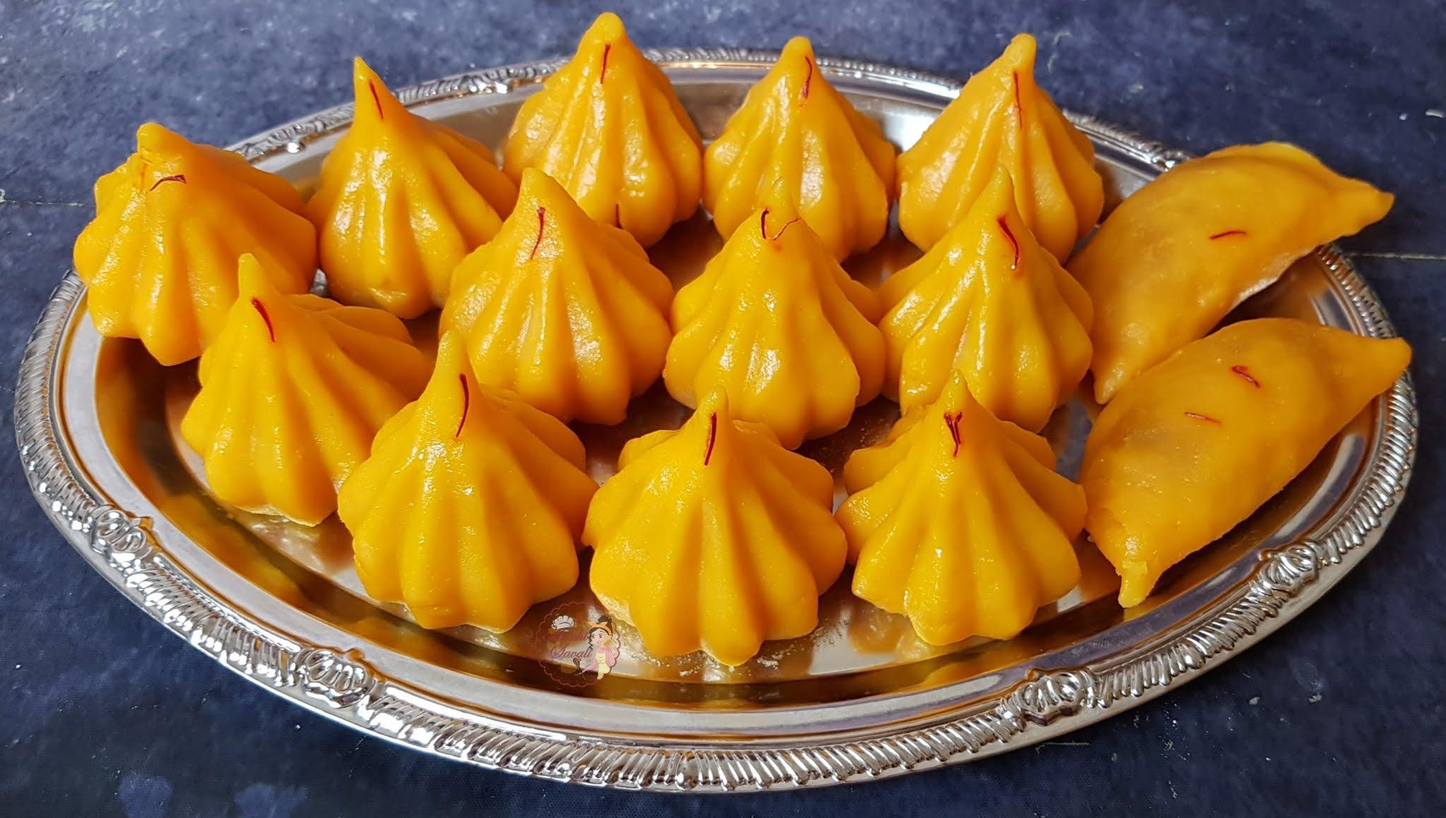modak: (1058, 76, 1344, 369), (1080, 286, 1320, 562), (460, 129, 691, 396), (271, 34, 494, 301), (863, 386, 1101, 634), (492, 0, 725, 243), (79, 89, 308, 329), (712, 19, 919, 275), (395, 352, 550, 659), (632, 409, 828, 650), (912, 65, 1111, 265), (197, 283, 372, 502), (711, 216, 878, 433)
